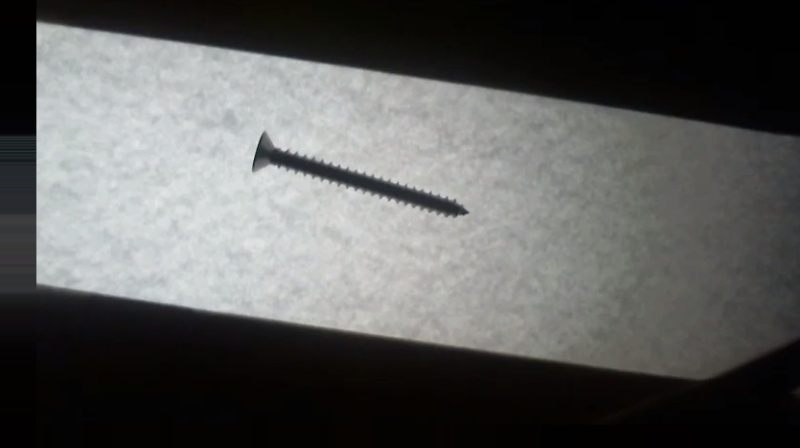S002: (248, 127, 474, 219)
